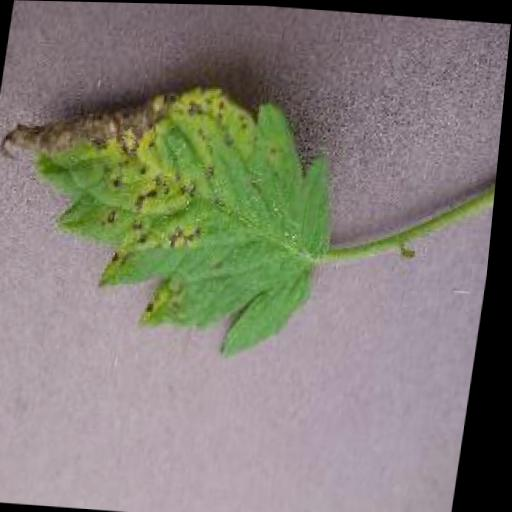Septoria: (0, 67, 348, 359)
